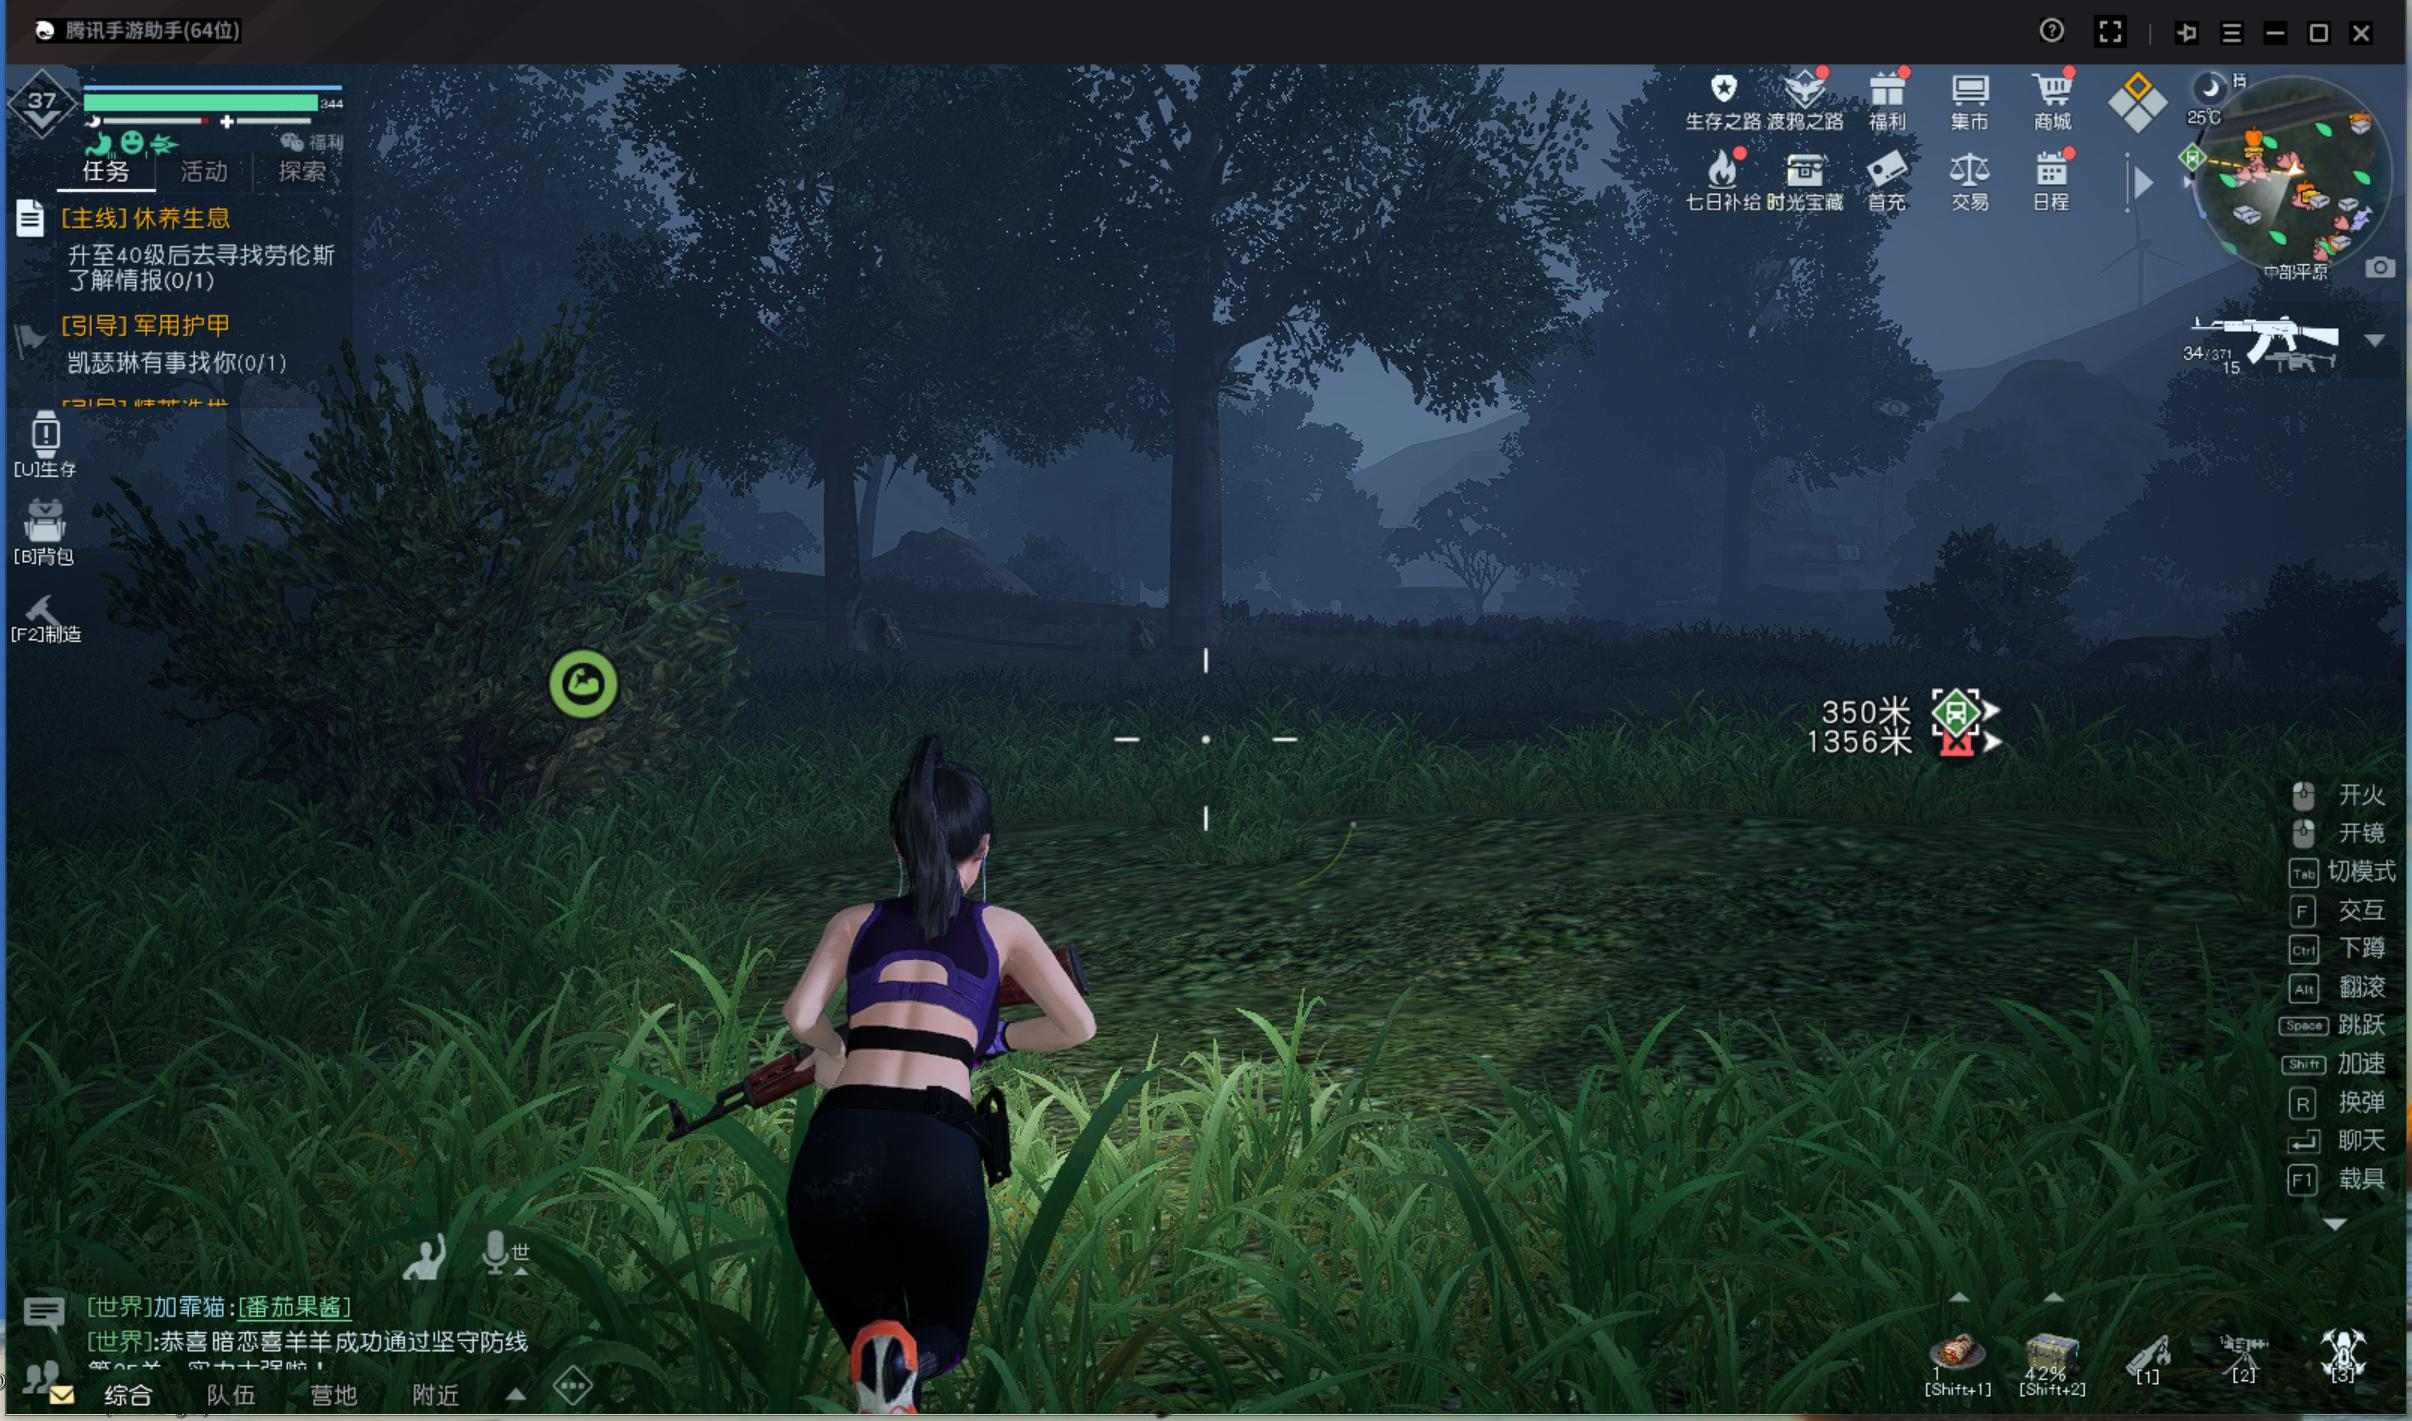stone: (863, 606, 913, 668), (1115, 616, 1160, 655)
tree: (1160, 386, 1242, 658), (814, 457, 859, 643), (1715, 484, 1749, 675)
